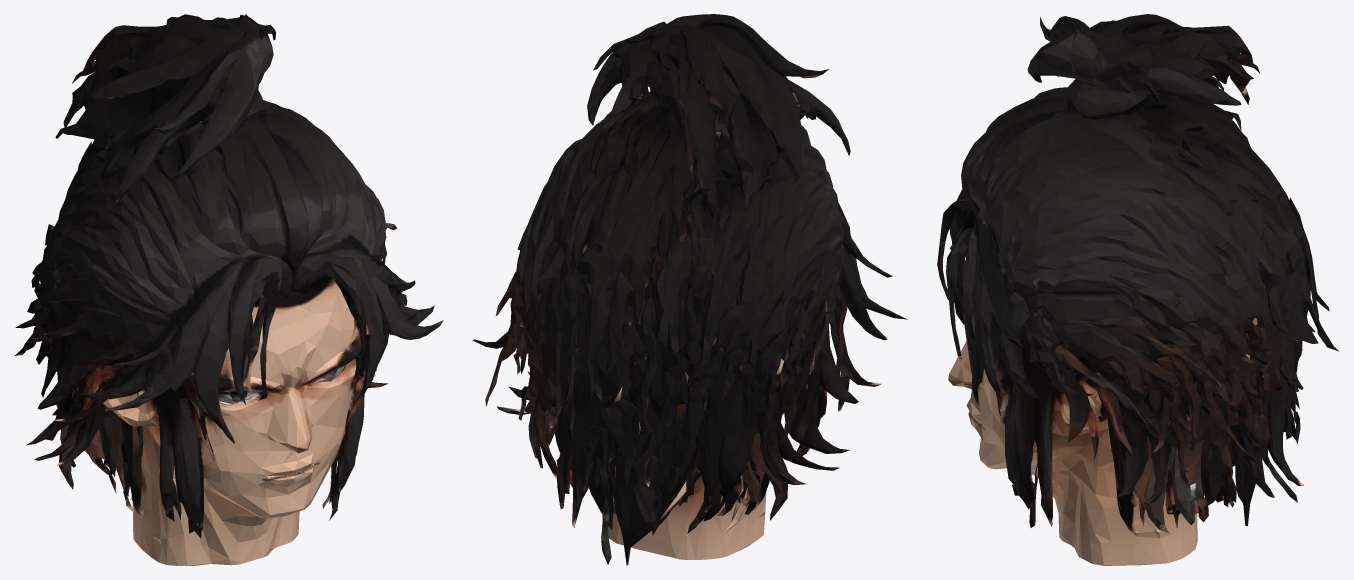
Rendered from side_kasamashi_repaired_atlas.glb.
3 views of the same model, side by side, from view 1: azimuth 30°, elevation 25°; view 2: azimuth 150°, elevation 25°; view 3: azimuth 270°, elevation 25° (orthographic). The views are drawn at different scales.
Parts seen in each view (by area): view 1: temp_mesh.ply; view 2: temp_mesh.ply; view 3: temp_mesh.ply.
Boxes of the visible parts, left/top/right/bottom form: temp_mesh.ply: left=14, top=14, right=443, bottom=565; temp_mesh.ply: left=472, top=14, right=907, bottom=565; temp_mesh.ply: left=937, top=14, right=1338, bottom=565.
Size of the model in its own units: 1.49 by 1.97 by 1.42.
1 material, 1 textured.
